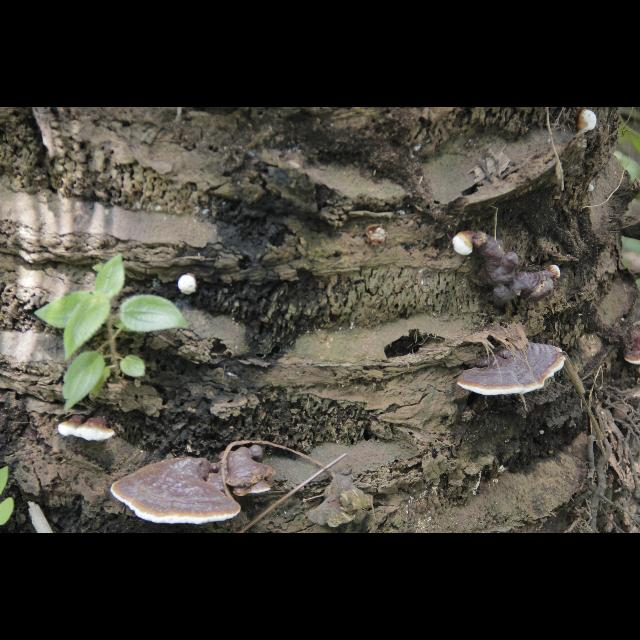ganoderma: (112, 458, 243, 527), (476, 232, 555, 312), (458, 341, 567, 398), (219, 446, 277, 498), (59, 415, 117, 443)
primordium: (453, 231, 475, 257), (575, 110, 597, 135), (179, 274, 200, 296), (549, 266, 562, 281), (589, 186, 595, 193)
